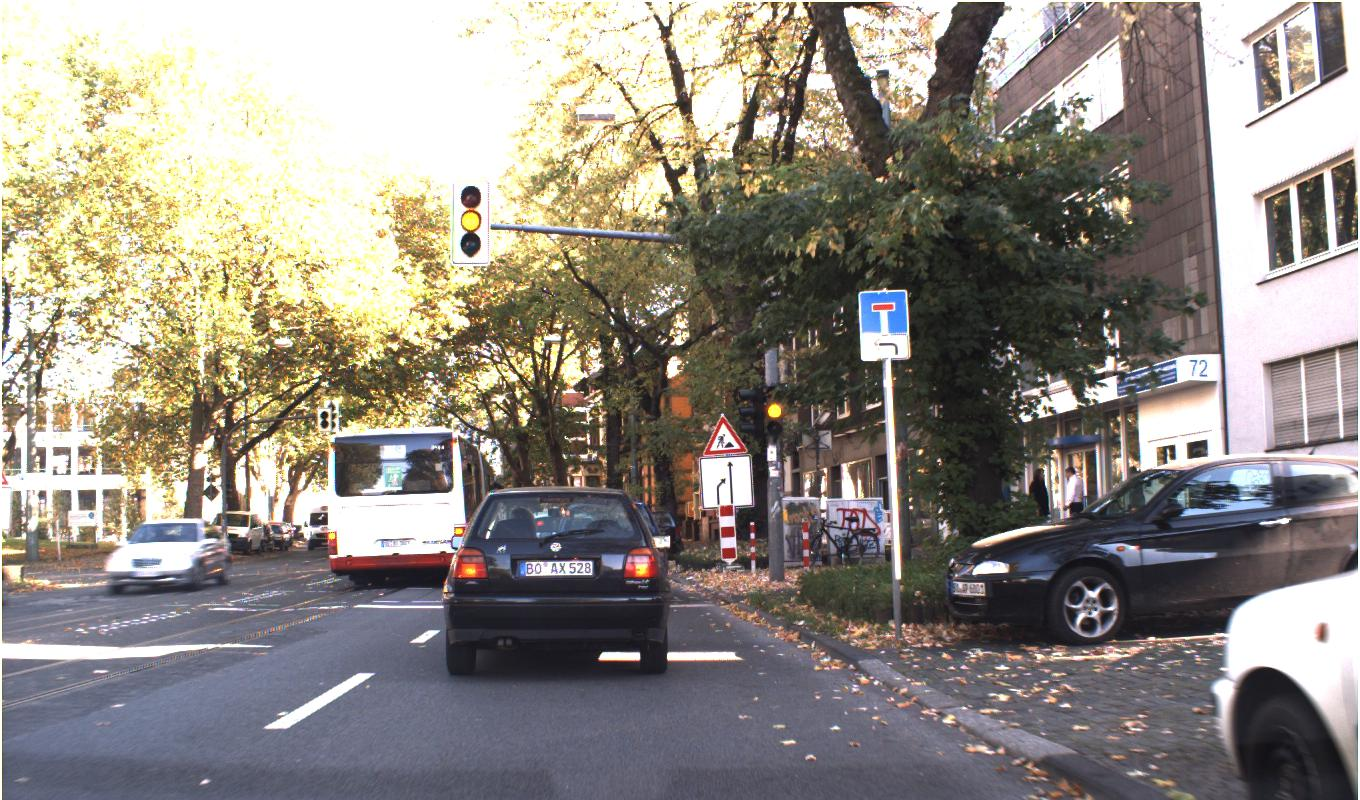danger: (702, 413, 747, 455)
